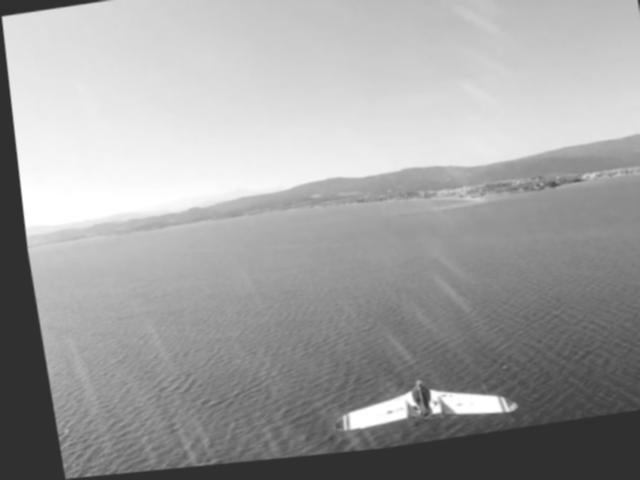hedef: (318, 364, 510, 459)
